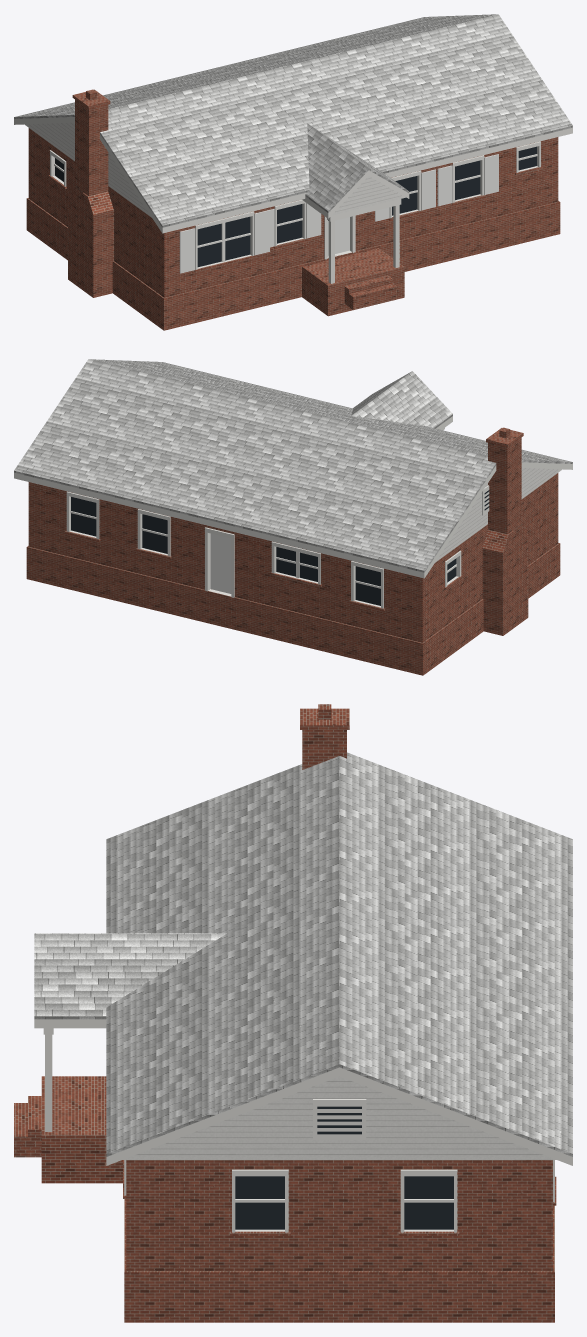
File: house-brick-ranch.glb
3 renders of one model, top to bottom at view 1: azimuth 30°, elevation 25°; view 2: azimuth 150°, elevation 25°; view 3: azimuth 270°, elevation 25°, orthographic. The views are drawn at different scales.
Visible parts, largest first — view 1: House; view 2: House; view 3: House.
Boxes of the visible parts, x1,y1,x2,y2 form: House: [14, 14, 572, 330]; House: [14, 359, 572, 675]; House: [14, 704, 572, 1322].
Bounding box in the file's own units: 15.45 × 6.79 × 11.26.
Materials: 6 (3 with a texture image).
